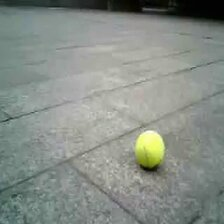tennis: (135, 130, 164, 166)
